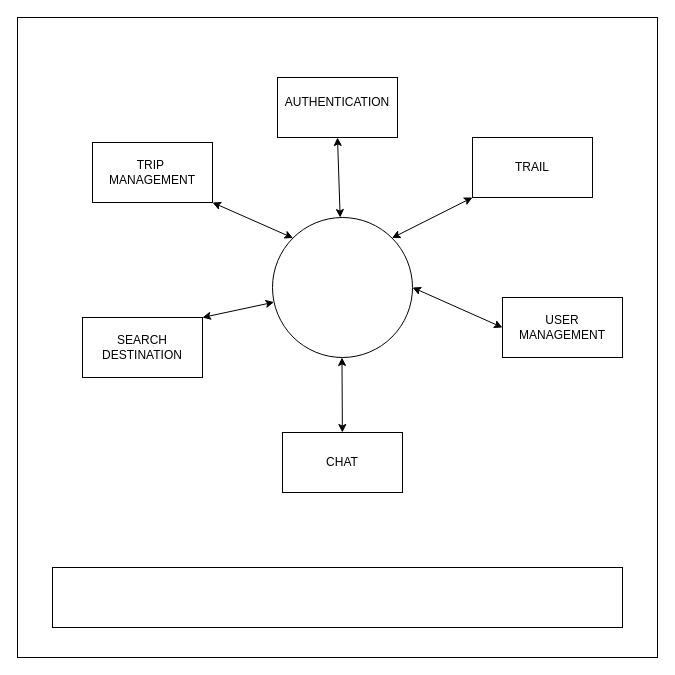
Some shapes in this 675 by 675 pixel diagram are drawn without their labels. Here are the shapes that lost their labels. From the top down, the box of each, then its label:
(272, 216, 412, 358): VAGA TRIP
(52, 566, 622, 628): Zero Level DFD - VAGA TRIP APP
